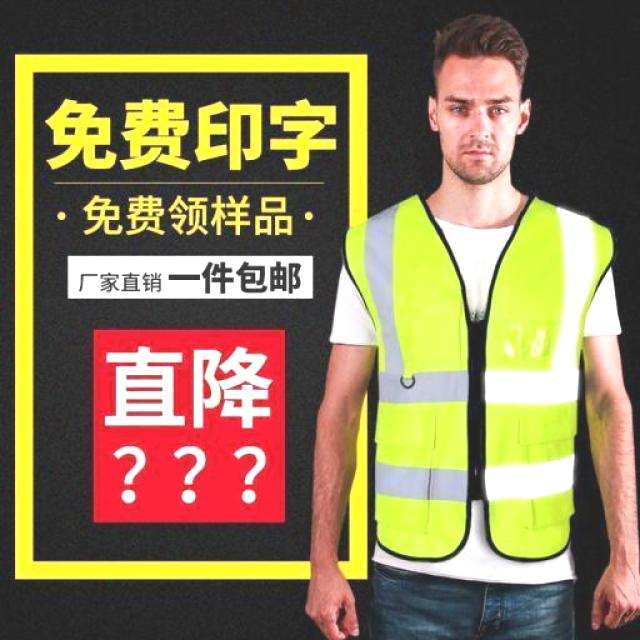face_nomask: (436, 88, 520, 174)
hand_noglove: (296, 562, 365, 640), (584, 569, 640, 640)
head_nohelmet: (422, 10, 539, 72)
person: (307, 11, 640, 640)
vest: (342, 187, 600, 579)
